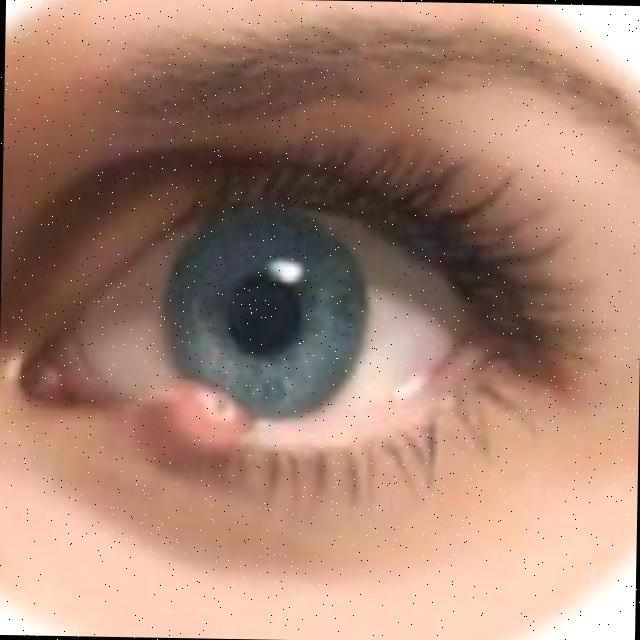Stye: (103, 346, 296, 522)
